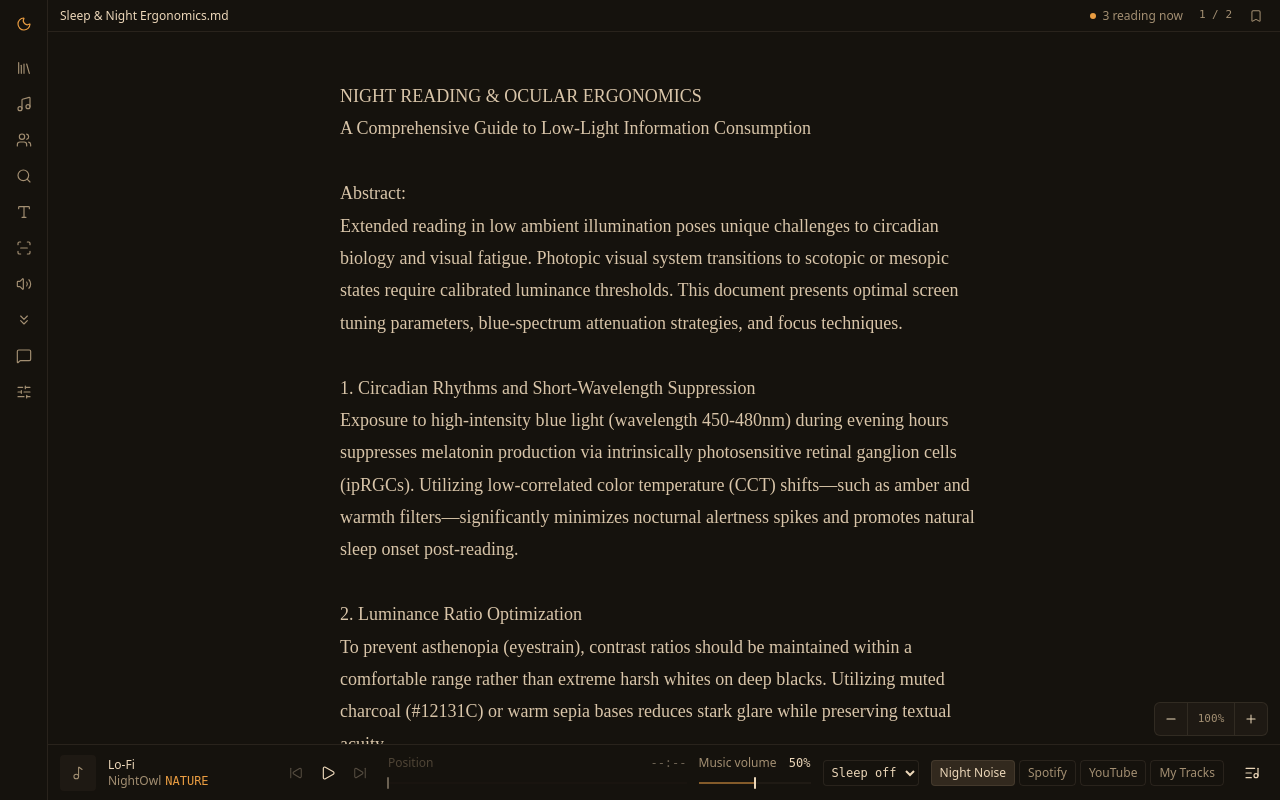
Test: App rooms › opens the Rooms panel when online, and shares a sheet slot with Library
The image size is (1280, 800).
Click the button named "Rooms": {"x": 24, "y": 140} [8,124,40,156]
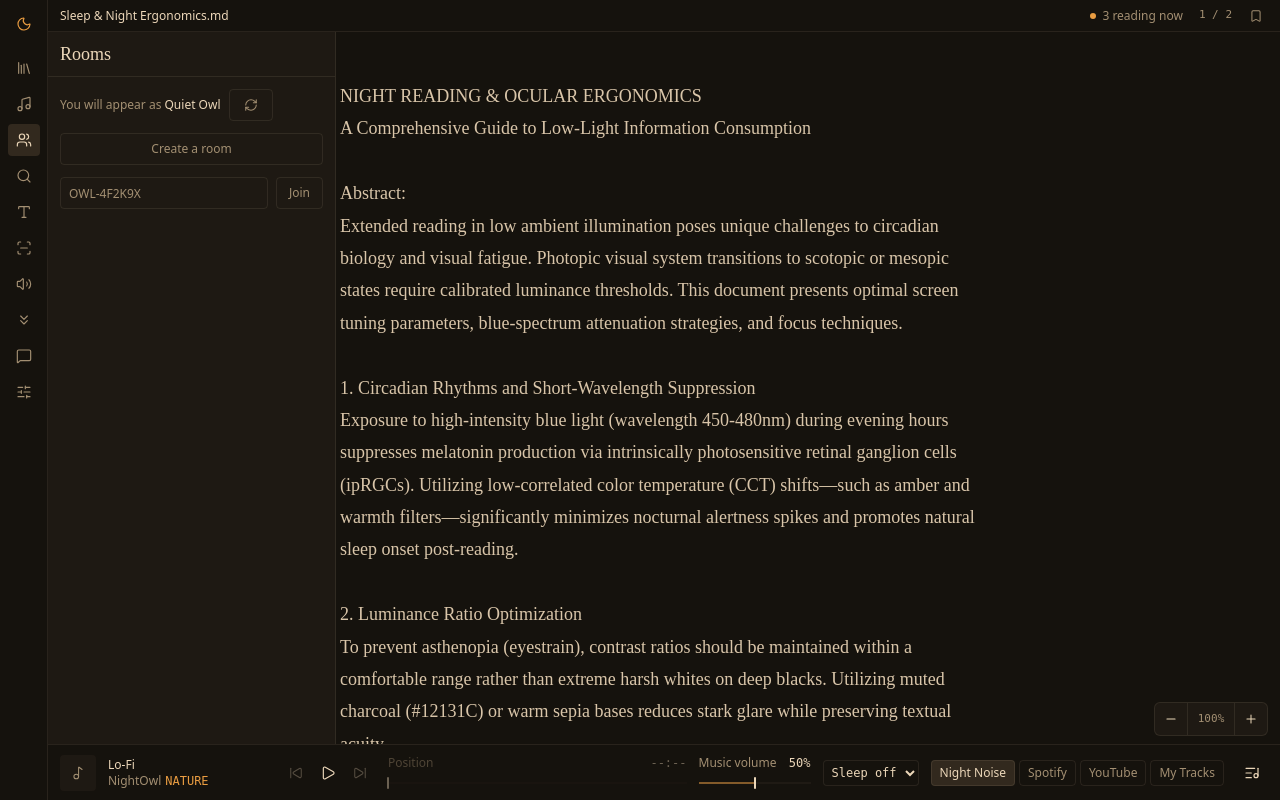
expect the element "Rooms" is shown: met, box [48,32,336,744]
expect the button "Create a room" is shown: met, box [60,133,323,165]
Click the button named "Library": {"x": 24, "y": 68} [8,52,40,84]
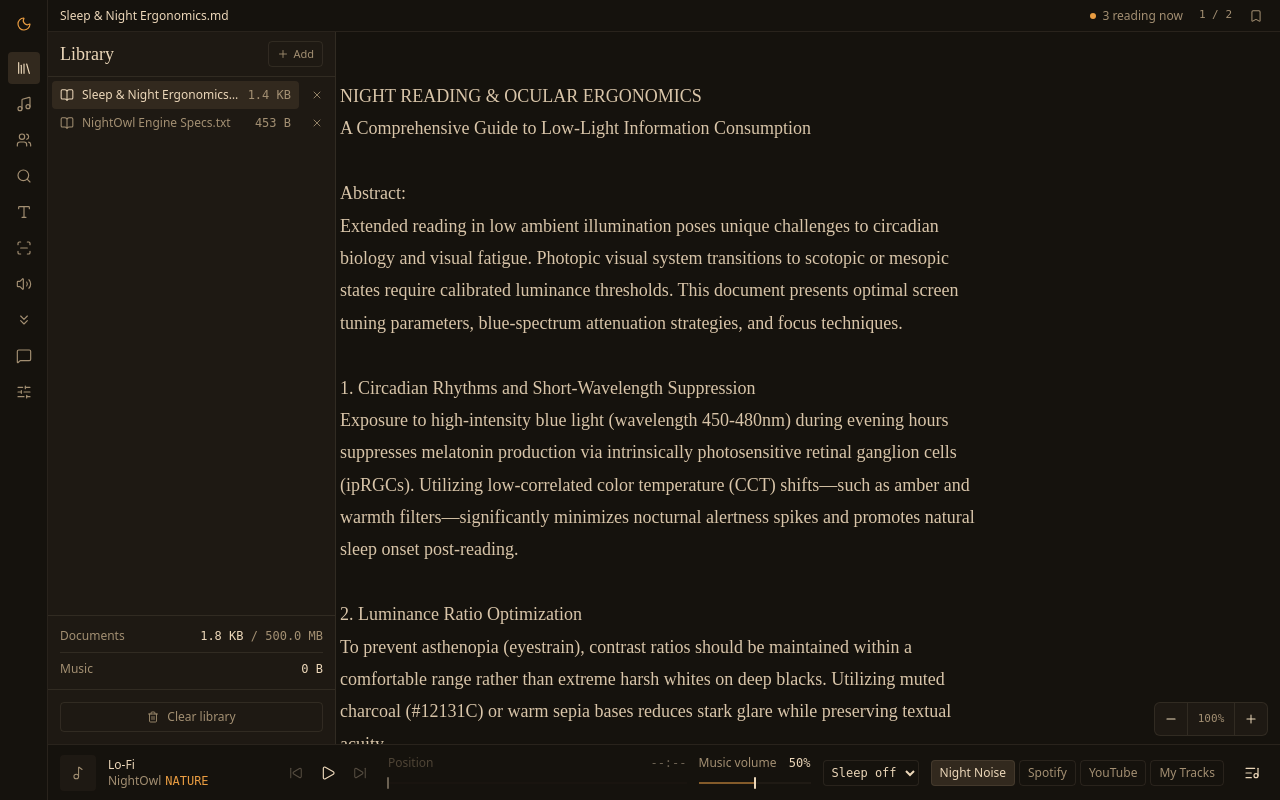
expect the heading "Rooms" is gone: met
expect the element "Library" is shown: met, box [48,32,336,744]
Click the button named "Rooms": {"x": 24, "y": 140} [8,124,40,156]
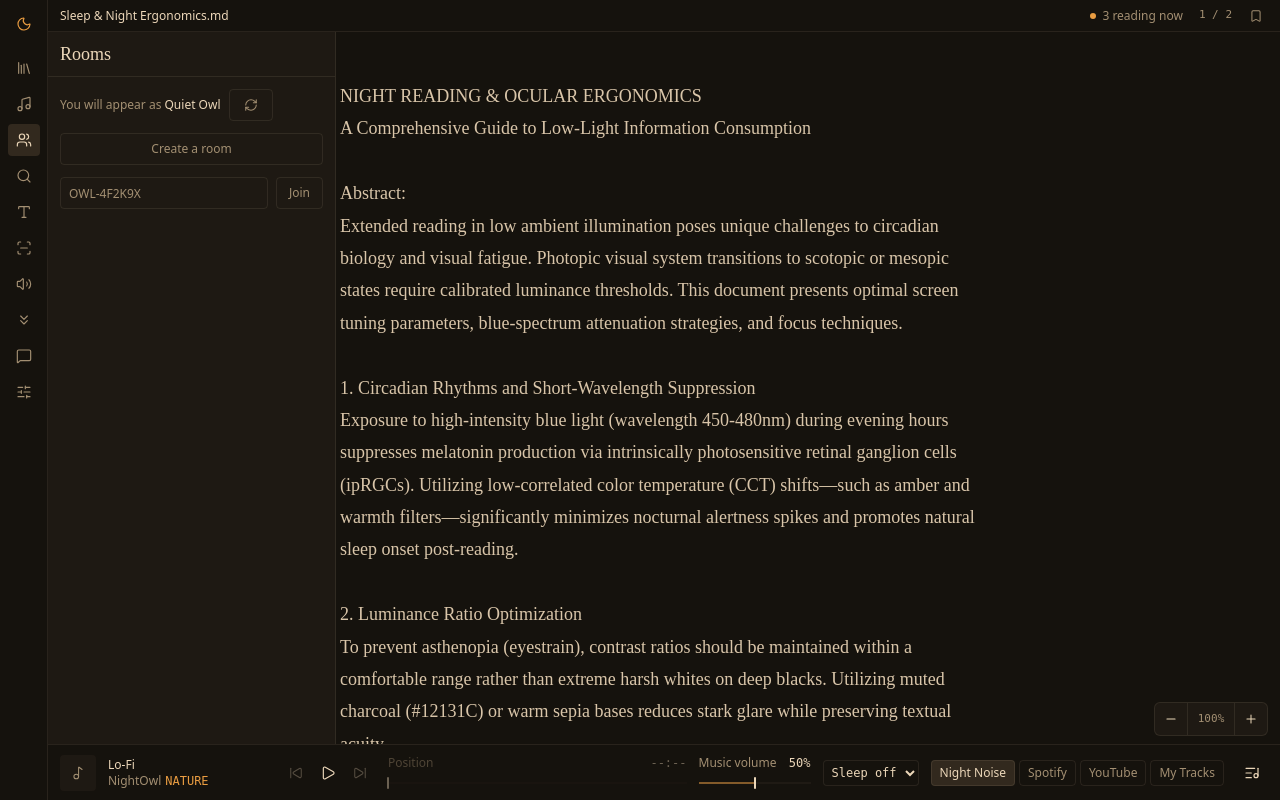
expect the heading "Library" is gone: met
expect the element "Rooms" is shown: met, box [48,32,336,744]
